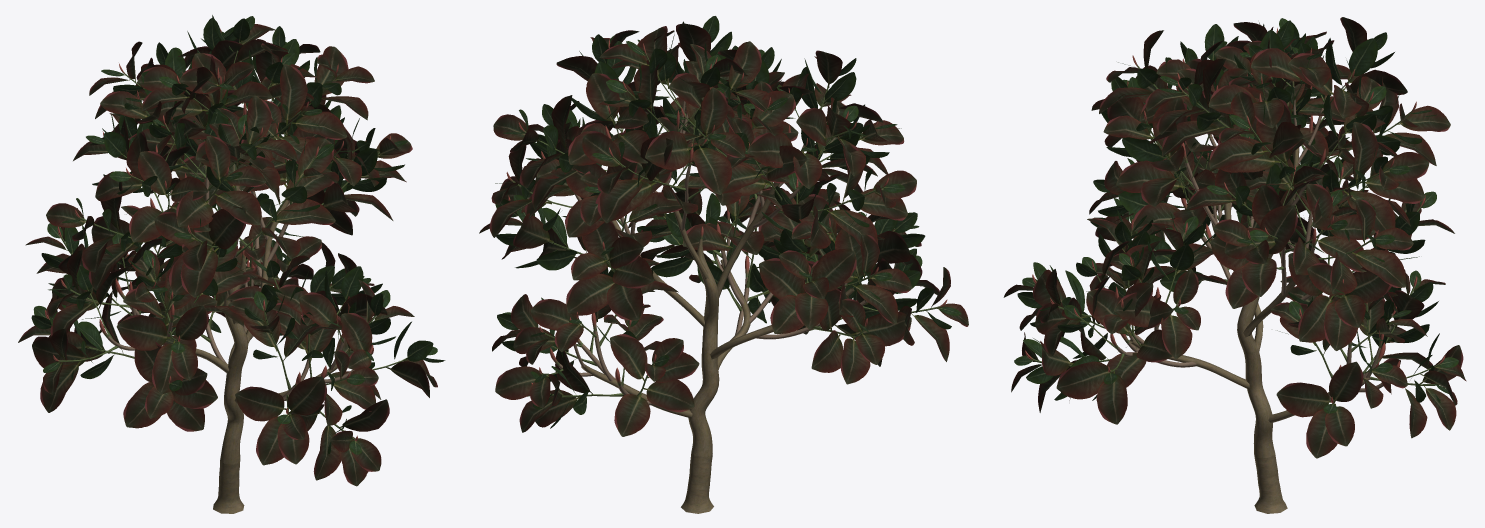
3 renders of one model, left to right at view 1: azimuth 30°, elevation 25°; view 2: azimuth 150°, elevation 25°; view 3: azimuth 270°, elevation 25°, orthographic. The views are drawn at different scales.
Visible parts, largest first — view 1: Leaf01_1, Leaf03_1, Bark01_1, Branch02_1, Branch03_1, Branch01_1; view 2: Leaf01_1, Leaf03_1, Bark01_1, Branch02_1, Branch01_1, Branch03_1; view 3: Leaf01_1, Leaf03_1, Bark01_1, Branch02_1, Branch01_1, Branch03_1.
Boxes of the visible parts, x1,y1,x2,y2 form: Leaf01_1: [18, 24, 437, 486]; Leaf03_1: [31, 15, 445, 454]; Bark01_1: [161, 185, 337, 513]; Branch02_1: [60, 40, 407, 440]; Branch03_1: [45, 28, 390, 441]; Branch01_1: [107, 102, 354, 400]; Leaf01_1: [479, 23, 968, 436]; Leaf03_1: [495, 16, 961, 428]; Bark01_1: [581, 139, 854, 513]; Branch02_1: [514, 56, 937, 397]; Branch01_1: [558, 100, 867, 405]; Branch03_1: [506, 39, 947, 385]; Leaf01_1: [1003, 17, 1466, 458]; Leaf03_1: [1014, 18, 1458, 413]; Bark01_1: [1129, 147, 1370, 513]; Branch02_1: [1035, 60, 1437, 404]; Branch01_1: [1116, 86, 1387, 400]; Branch03_1: [1025, 28, 1445, 403].
Size of the model in its own units: 201 by 224 by 195.
Materials: 6 (6 with a texture image).
